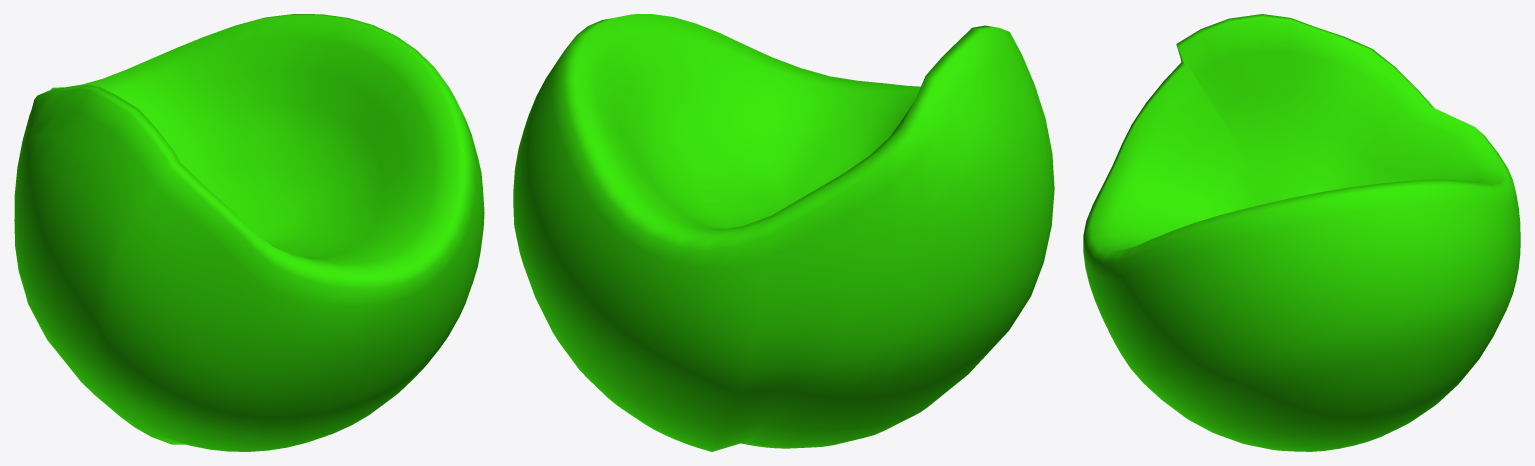
Rendered from Liquido.fbx.
3 renders of one model, left to right at view 1: azimuth 30°, elevation 25°; view 2: azimuth 150°, elevation 25°; view 3: azimuth 270°, elevation 25°, orthographic. The views are drawn at different scales.
Visible parts, largest first — view 1: Liquido2; view 2: Liquido2; view 3: Liquido2.
Part boxes in pixels (<box>): Liquido2: <box>14,14,484,451</box>; Liquido2: <box>513,14,1054,451</box>; Liquido2: <box>1083,14,1520,451</box>.
Bounding box in the file's own units: 177 × 155 × 177.
